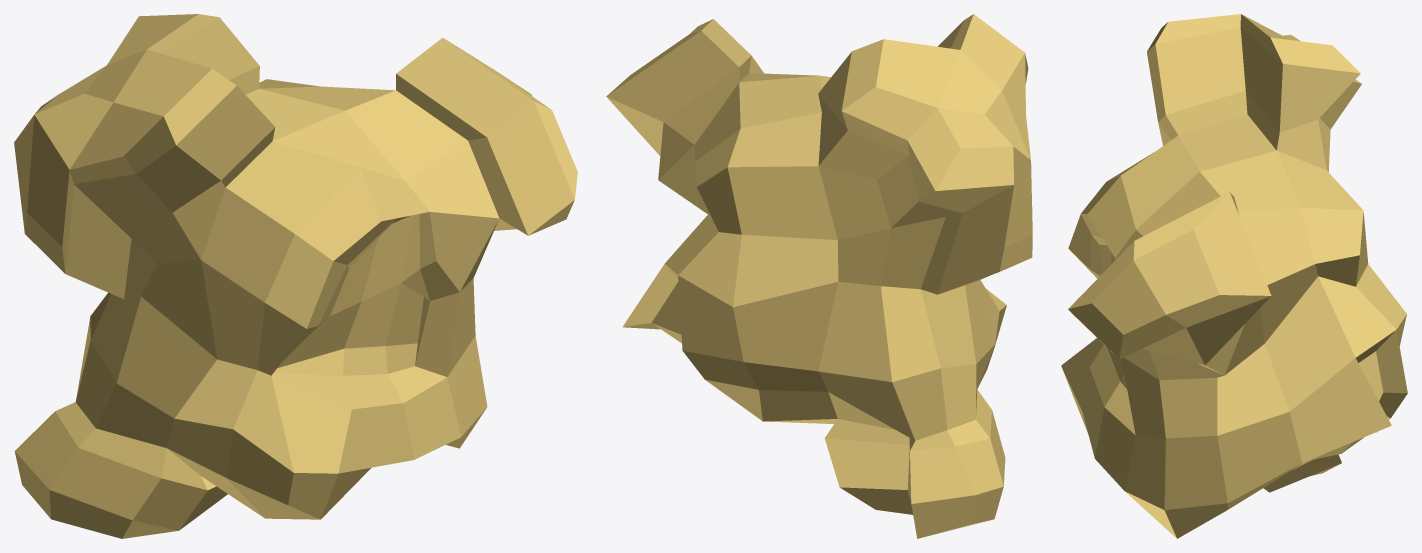
The model's file is popcorn4.fbx.
The picture shows the model from 3 angles, left to right: view 1: azimuth 30°, elevation 25°; view 2: azimuth 150°, elevation 25°; view 3: azimuth 270°, elevation 25°; orthographic projection. The views are drawn at different scales.
Visible parts, largest first — view 1: POPCORN.001; view 2: POPCORN.001; view 3: POPCORN.001.
Boxes of the visible parts, x1=… form: POPCORN.001: x1=14, y1=14, x2=577, y2=538; POPCORN.001: x1=606, y1=14, x2=1032, y2=538; POPCORN.001: x1=1061, y1=14, x2=1407, y2=538.
Size of the model in its own units: 58.64 by 60.01 by 41.32.
